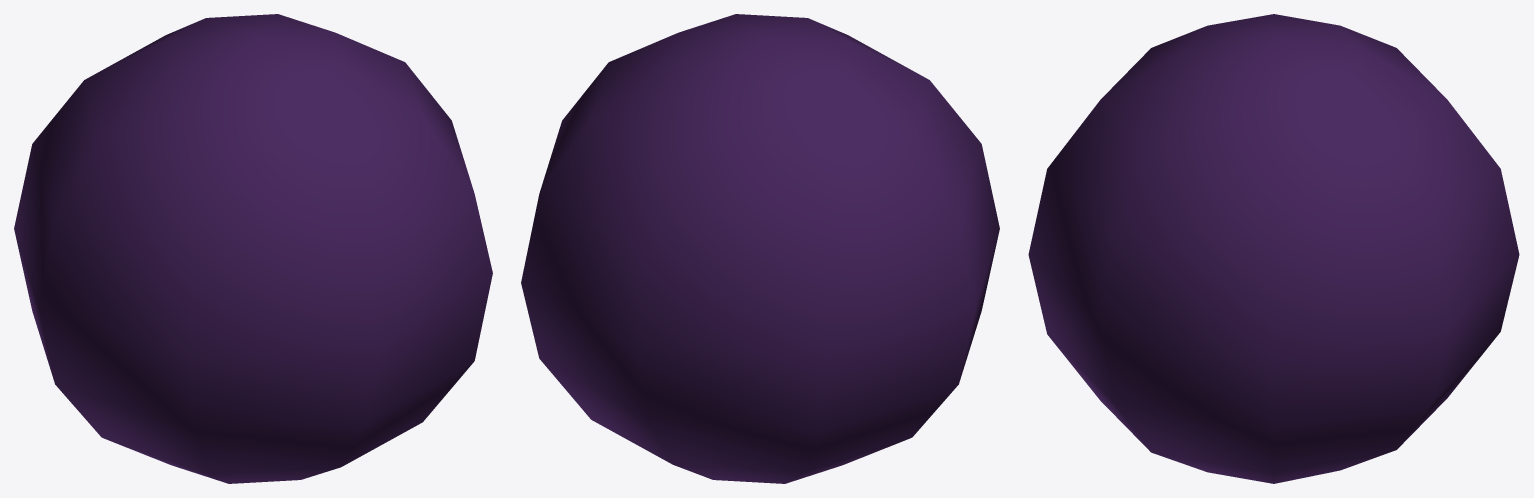
Rendered from blackgem.fbx.
3 renders of one model, left to right at view 1: azimuth 30°, elevation 25°; view 2: azimuth 150°, elevation 25°; view 3: azimuth 270°, elevation 25°, orthographic.
Parts seen in each view (by area): view 1: BlackGem; view 2: BlackGem; view 3: BlackGem.
Boxes of the visible parts, x1,y1,x2,y2 form: BlackGem: (14,14,492,483); BlackGem: (521,14,999,483); BlackGem: (1028,14,1519,483).
Size of the model in its own units: 2 by 1.91 by 2.
